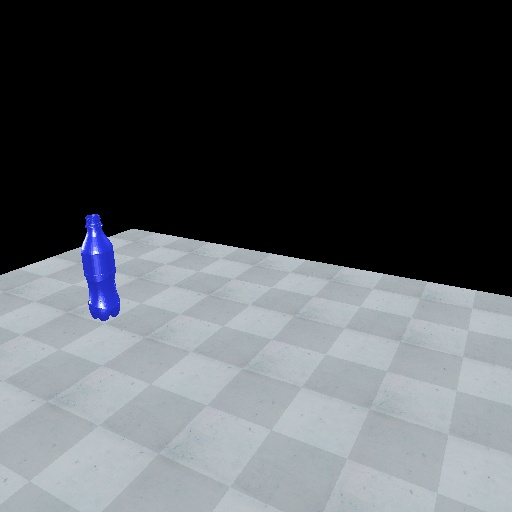bottle: (78, 211, 124, 323)
